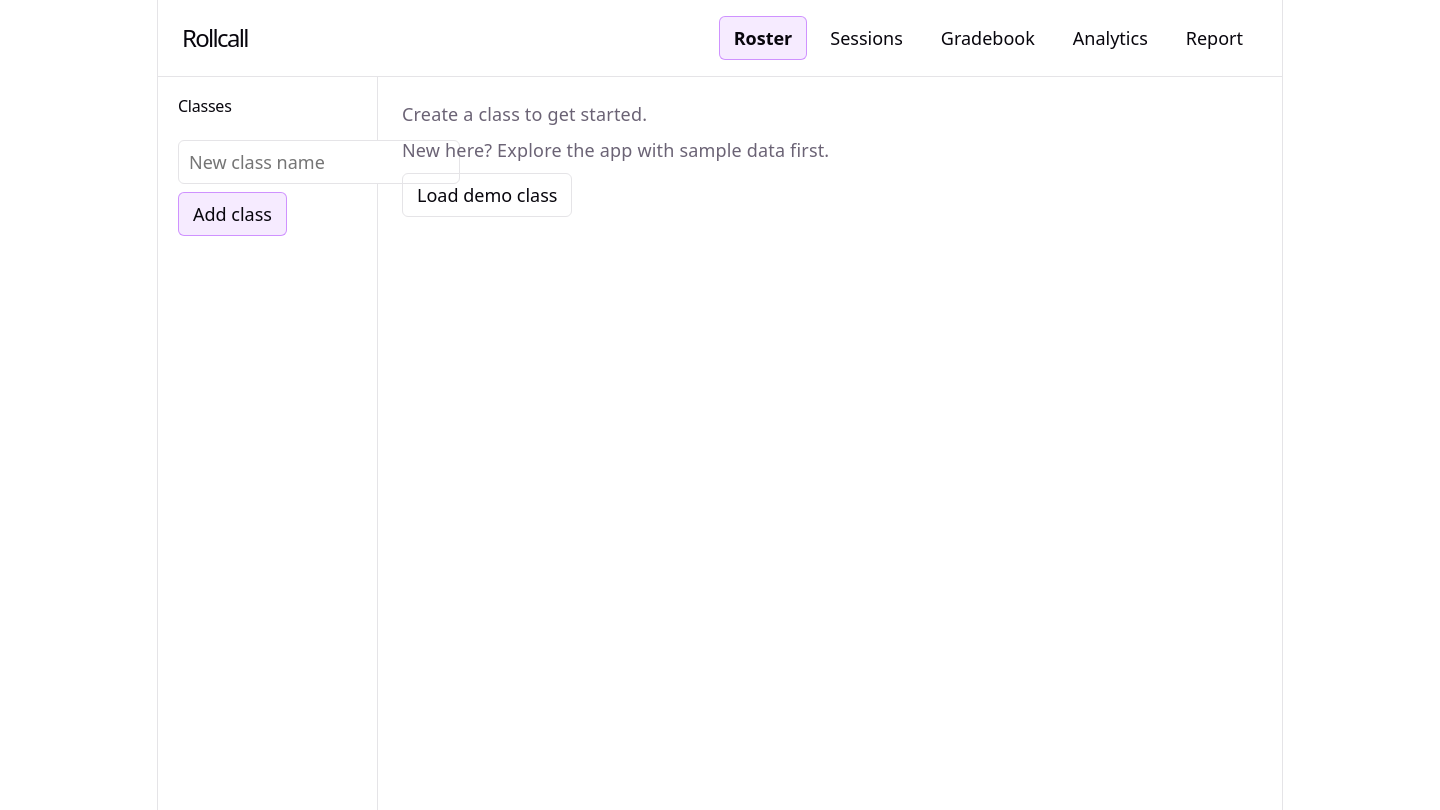
Test: SessionsPage › prompts to start a session before any exist
Type "Morning Cohort" into the field labelled "New class name".
click(319, 162); type("Morning Cohort")  # box [178,140,460,184]
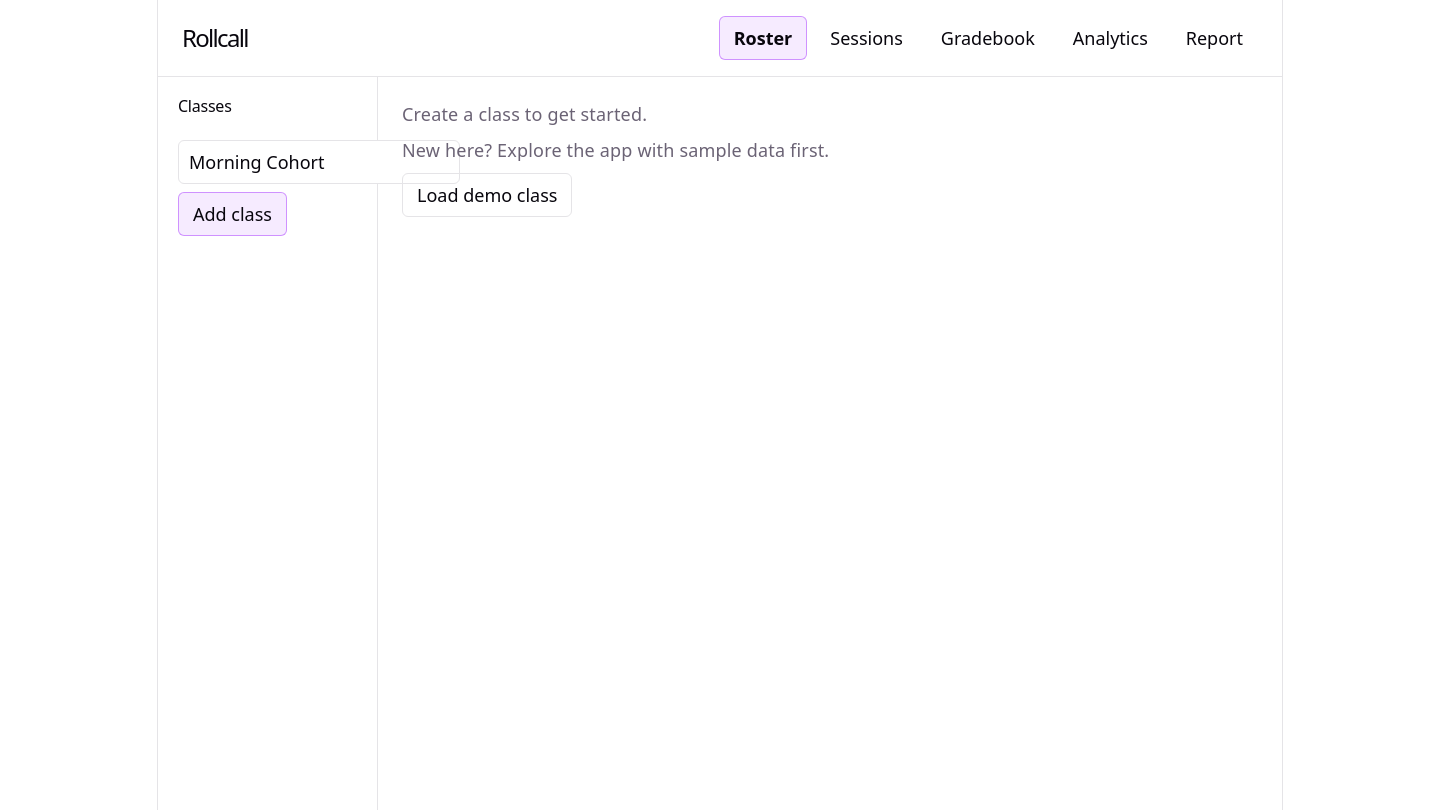
Click the button "Add class".
click(232, 214)  # box [178,192,287,236]
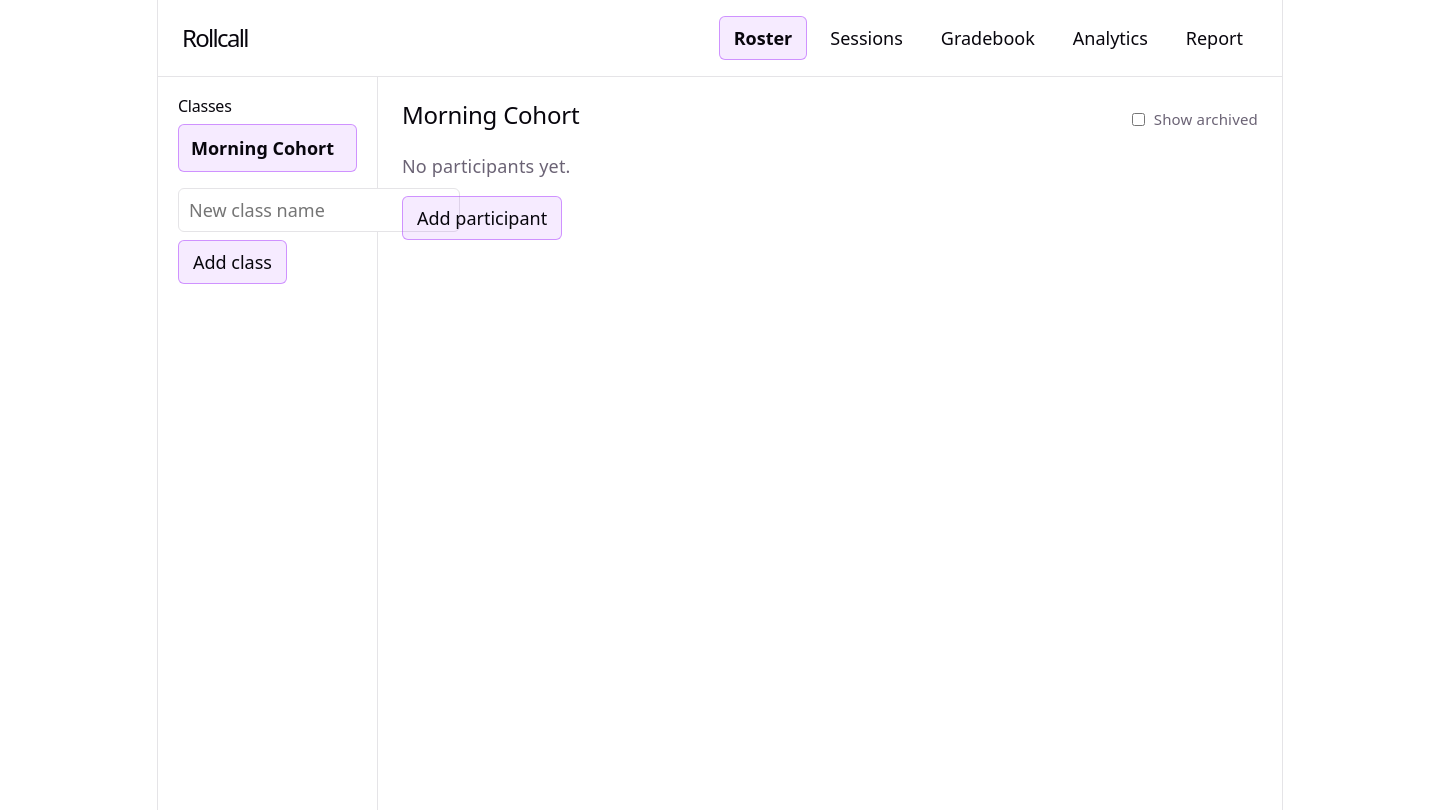
Click the button "Add participant".
click(482, 218)  # box [402,196,562,240]
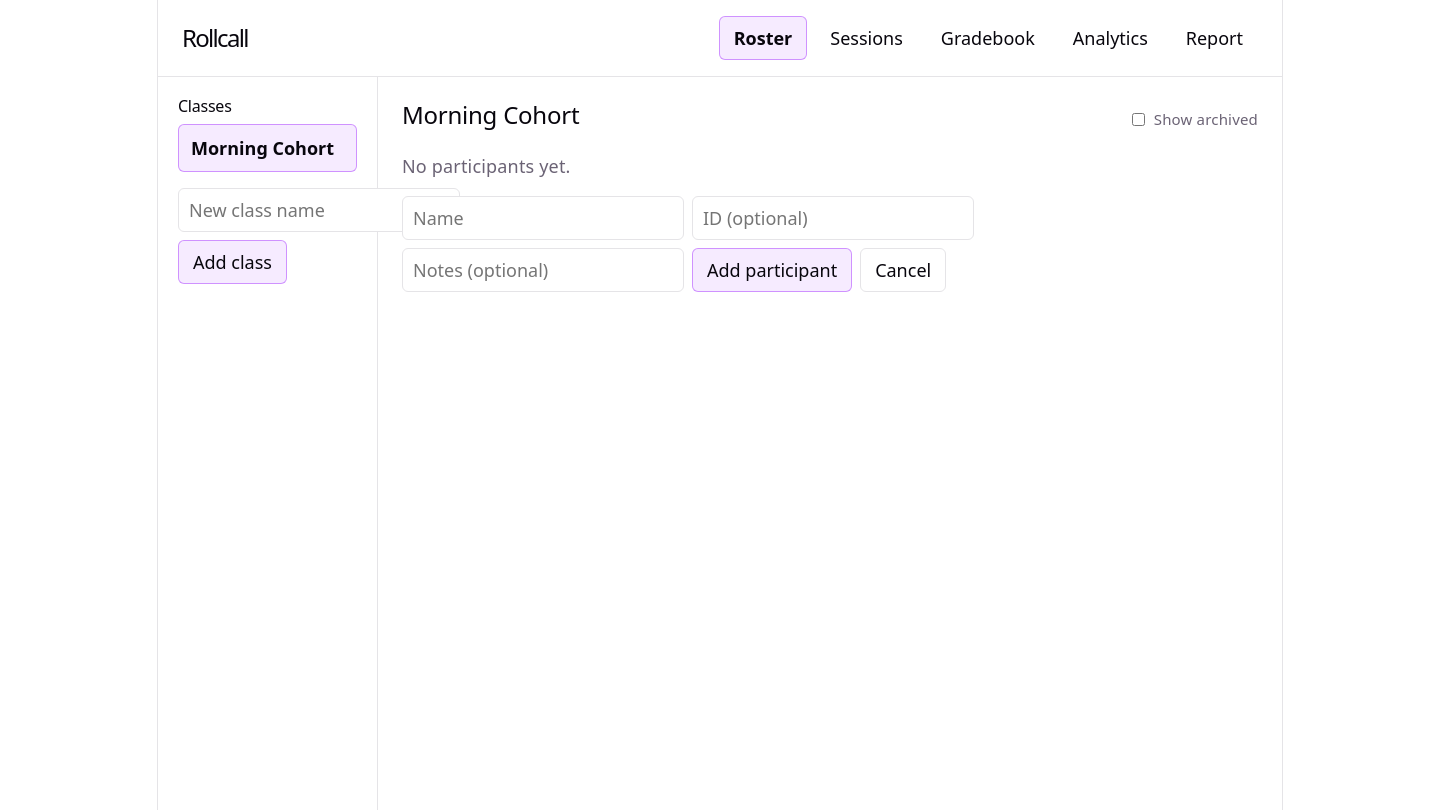
Type "Jane Doe" into the field named "Participant name".
click(543, 218); type("Jane Doe")  # box [402,196,684,240]
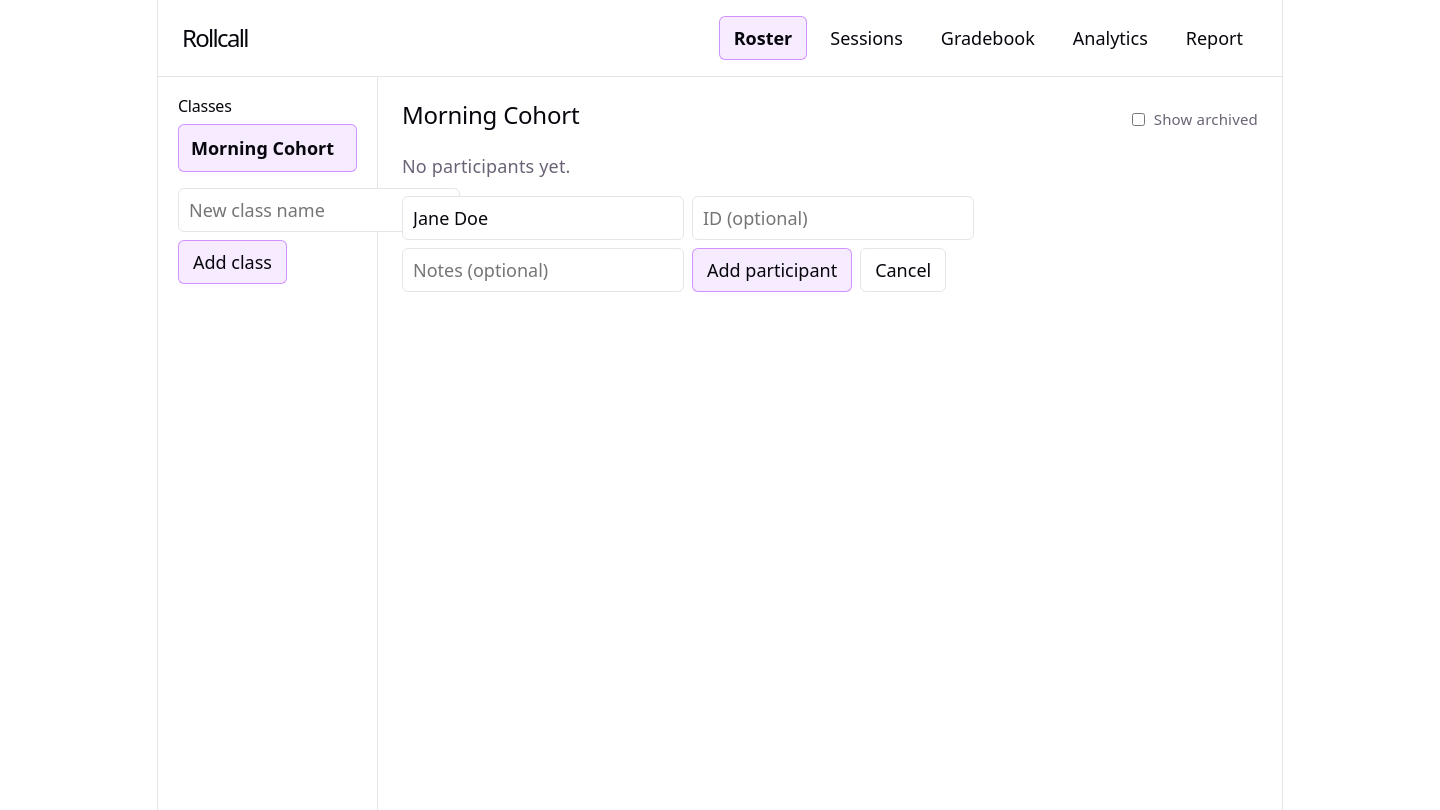
Click the button "Add participant".
click(772, 270)  # box [692,248,852,292]
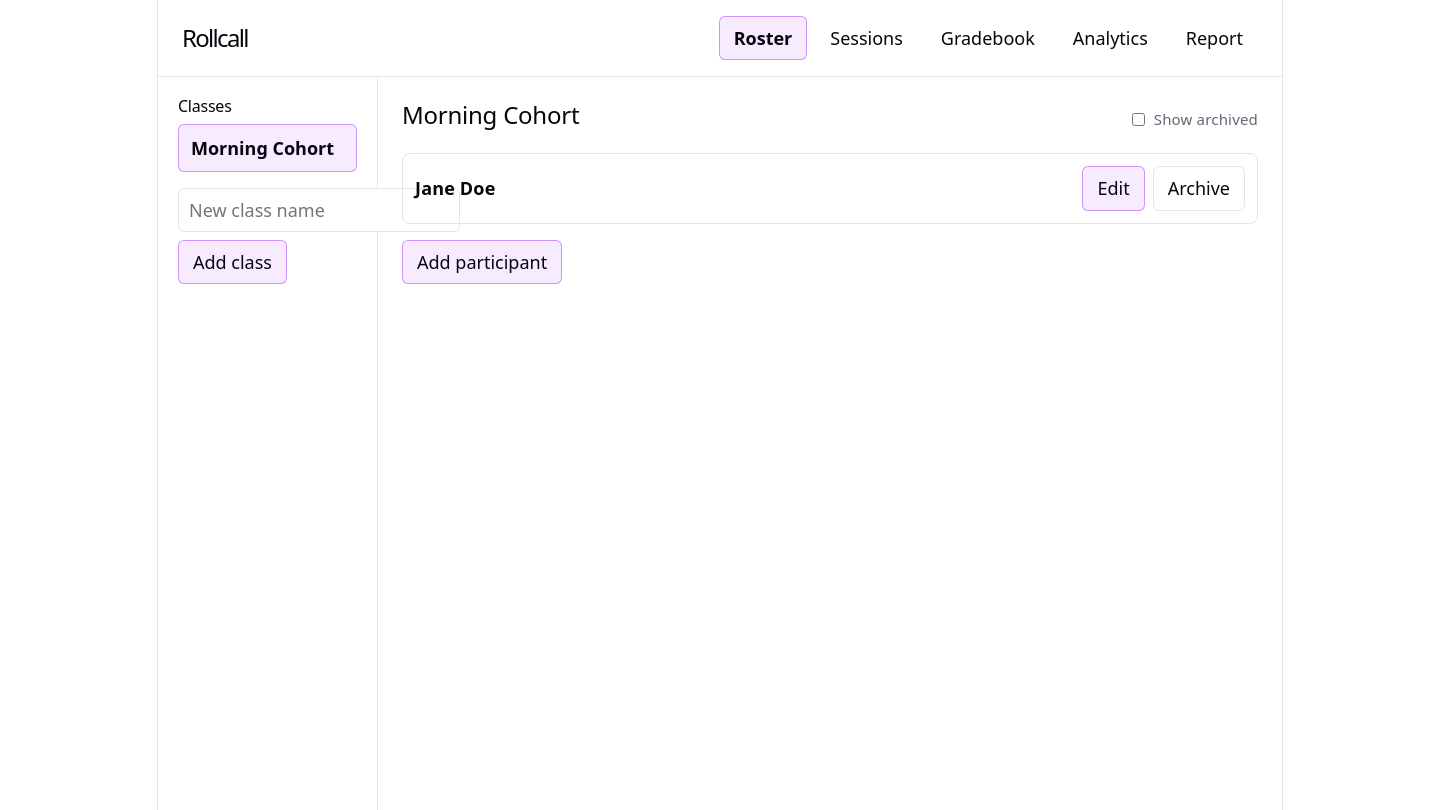
Click the button "Sessions".
click(867, 38)  # box [815,16,918,60]
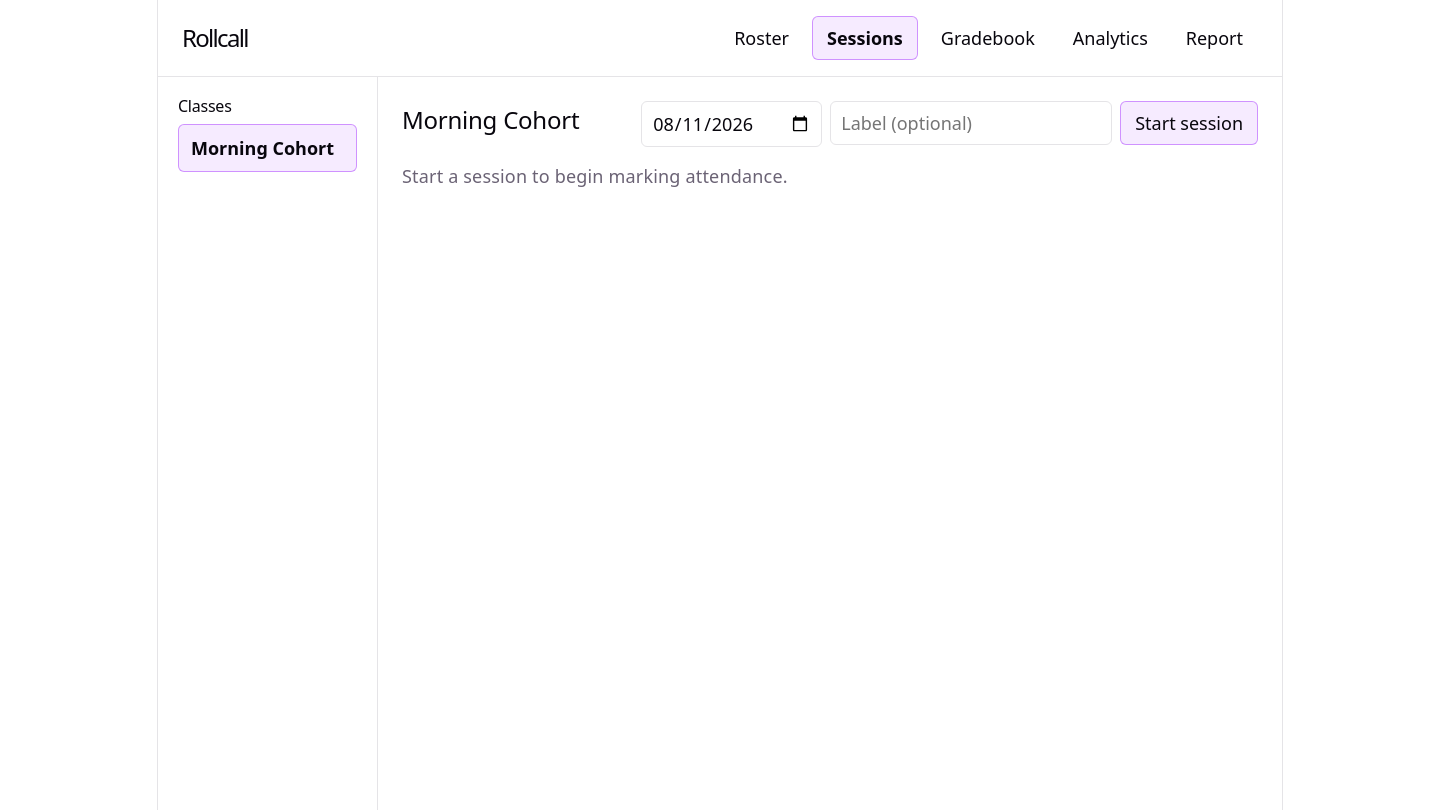
Check: the text "Start a session to begin marking attendance." is shown, box [402,164,788,188]
